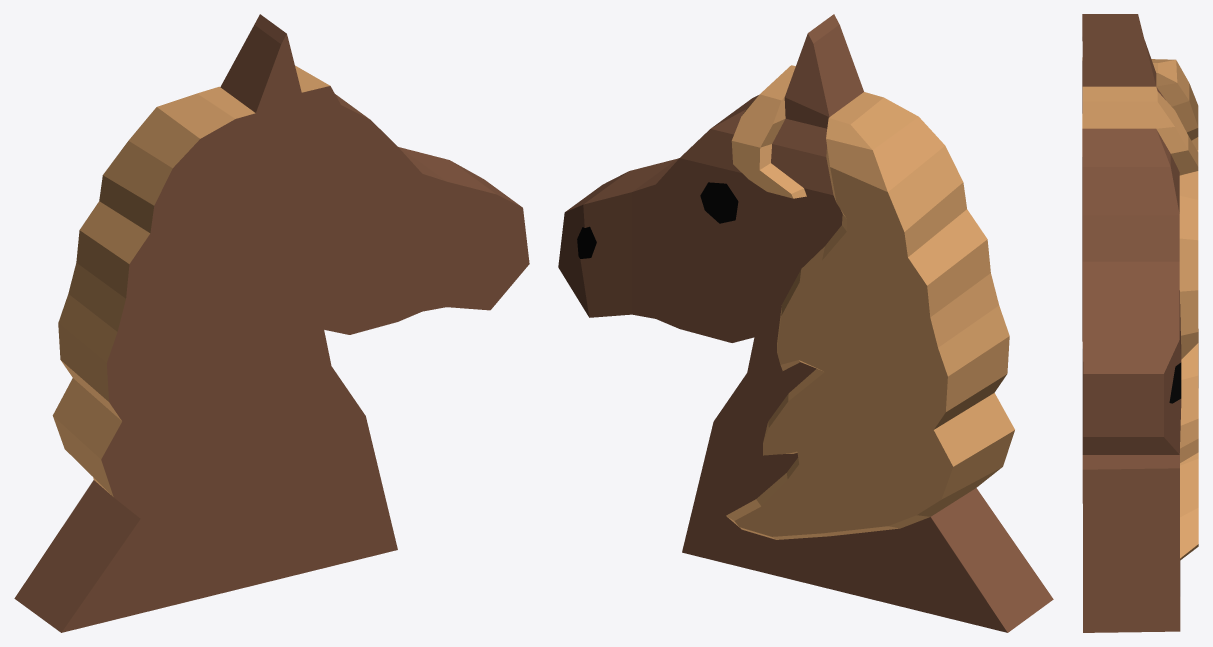
The model's file is icon_horse.fbx.
3 renders of one model, left to right at view 1: azimuth 30°, elevation 25°; view 2: azimuth 150°, elevation 25°; view 3: azimuth 270°, elevation 25°, orthographic. The views are drawn at different scales.
Parts seen in each view (by area): view 1: icon_horse; view 2: icon_horse; view 3: icon_horse.
Part boxes in pixels (x1,y1,x2,y2): icon_horse: [14, 14, 529, 632]; icon_horse: [558, 14, 1053, 632]; icon_horse: [1082, 14, 1198, 632].
Bounding box in the file's own units: 48.85 × 54.26 × 10.17.
